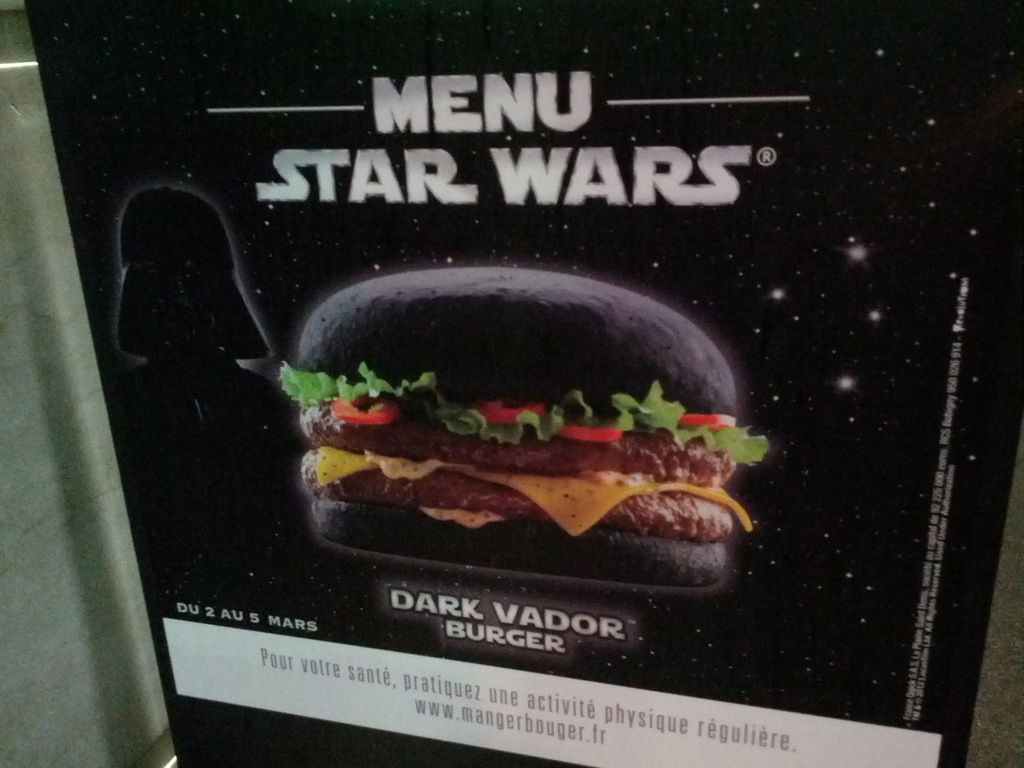Hamburger: (277, 266, 769, 590)
